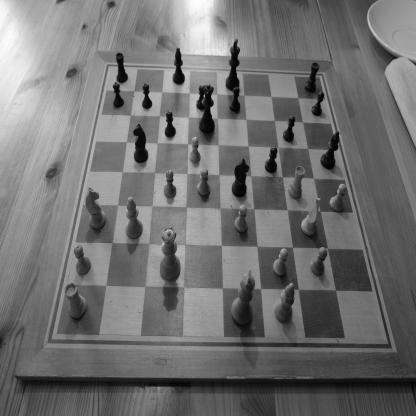black-bishop: (320, 130, 340, 170), (172, 46, 185, 84)
black-king: (225, 38, 241, 91)
black-knight: (232, 158, 250, 198), (133, 123, 149, 164)
black-pawn: (264, 146, 278, 173), (282, 115, 296, 142), (311, 91, 325, 116), (164, 110, 176, 138), (112, 82, 124, 108), (142, 83, 152, 109), (230, 86, 240, 112), (196, 84, 205, 110)
black-queen: (199, 84, 215, 134)
black-rook: (304, 62, 320, 92), (115, 52, 128, 83)
white-bishop: (273, 282, 295, 323), (125, 197, 143, 240)
white-king: (231, 269, 255, 326)
white-knight: (85, 187, 107, 230), (300, 197, 322, 236)
white-pawn: (74, 244, 92, 275), (329, 183, 347, 212), (310, 247, 328, 276), (273, 248, 288, 277), (234, 204, 248, 233), (196, 168, 210, 196), (164, 170, 176, 198), (189, 136, 201, 163)
white-queen: (159, 226, 181, 281)
white-rook: (64, 281, 88, 319), (288, 165, 306, 200)
